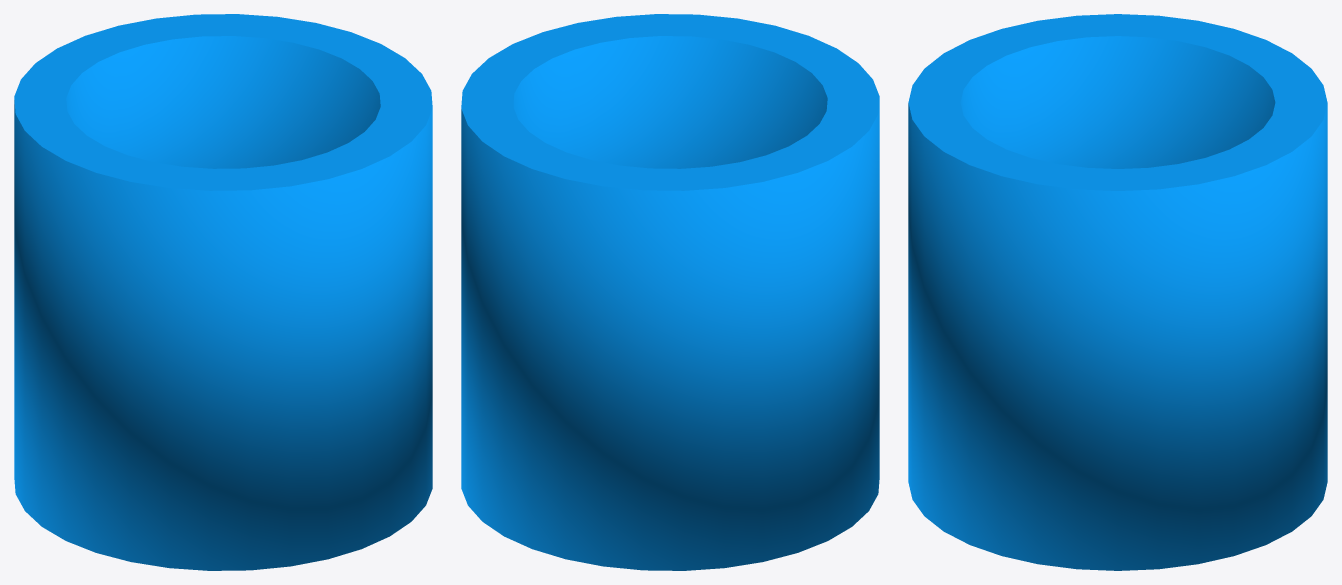
Rendered from TubePrimitive.fbx.
The picture shows the model from 3 angles, left to right: view 1: azimuth 30°, elevation 25°; view 2: azimuth 150°, elevation 25°; view 3: azimuth 270°, elevation 25°; orthographic projection.
Parts seen in each view (by area): view 1: Tube; view 2: Tube; view 3: Tube.
Boxes of the visible parts, bbox=[...] form: Tube: bbox=[14, 14, 432, 570]; Tube: bbox=[461, 14, 879, 570]; Tube: bbox=[908, 14, 1327, 570].
Size of the model in its own units: 100 by 100 by 100.
